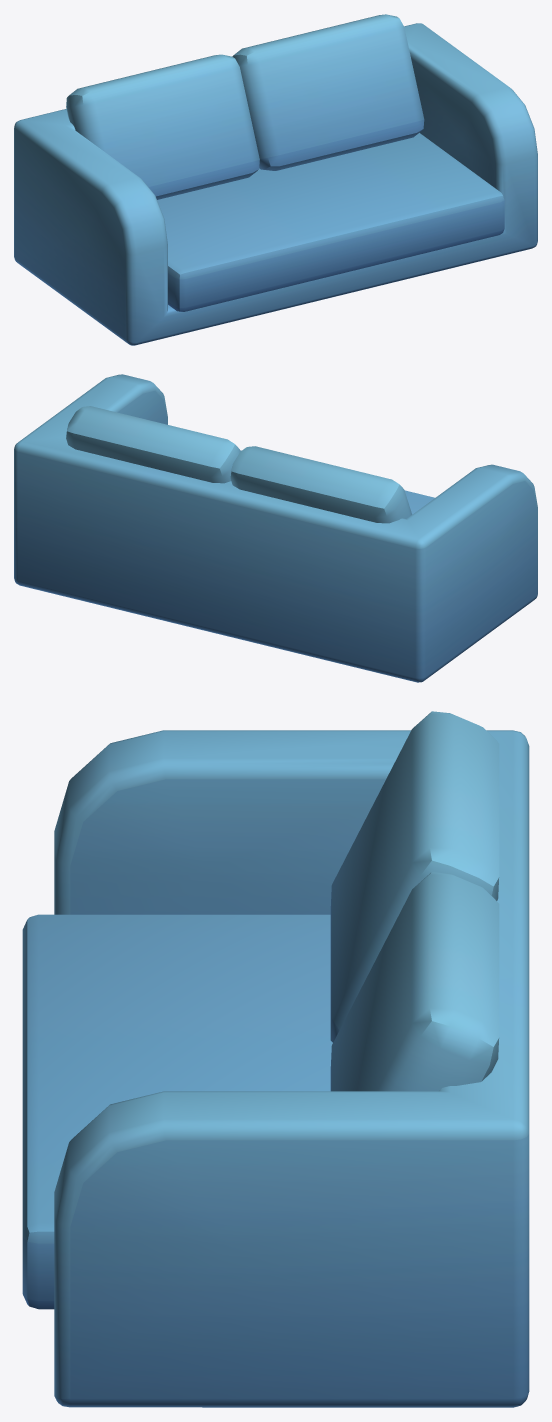
File: couch.glb
The picture shows the model from 3 angles, top to bottom: view 1: azimuth 30°, elevation 25°; view 2: azimuth 150°, elevation 25°; view 3: azimuth 270°, elevation 25°; orthographic projection. The views are drawn at different scales.
Visible parts, largest first — view 1: couch; view 2: couch; view 3: couch.
Boxes of the visible parts, box(x1,y1,x2,y2) form: couch: box(14, 14, 537, 345); couch: box(14, 374, 537, 682); couch: box(22, 711, 529, 1407).
Size of the model in its own units: 3 by 1.22 by 1.6.
1 material, 1 textured.
